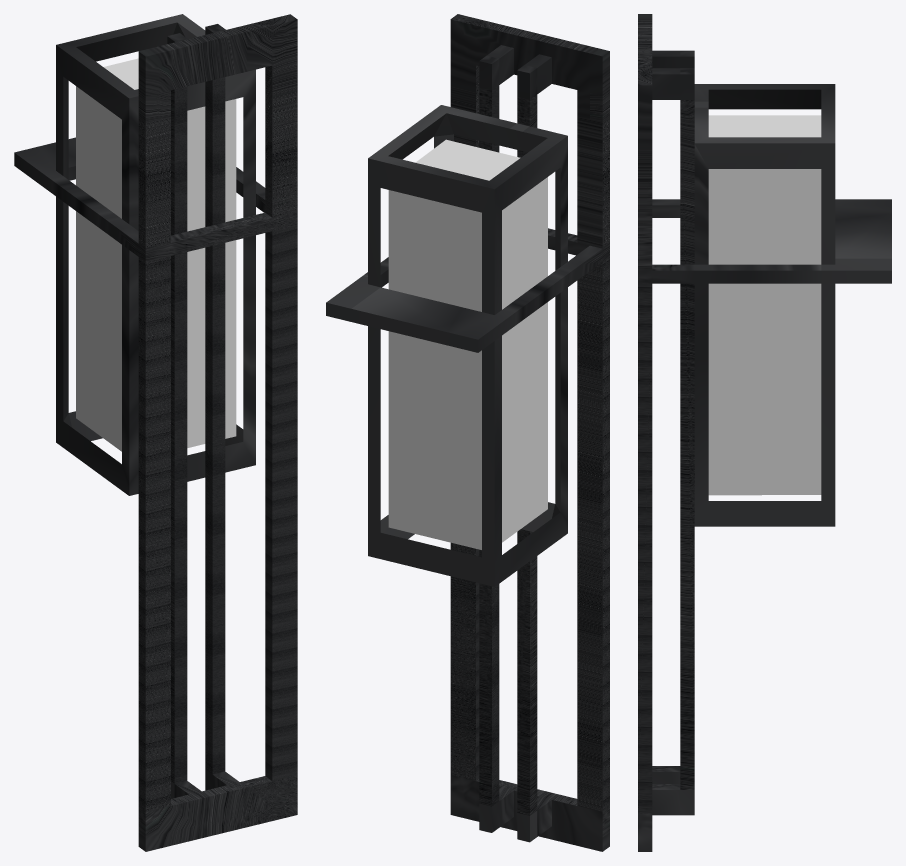
Rendered from FLWlamp2.fbx.
3 renders of one model, left to right at view 1: azimuth 30°, elevation 25°; view 2: azimuth 150°, elevation 25°; view 3: azimuth 270°, elevation 25°, orthographic. The views are drawn at different scales.
Visible parts, largest first — view 1: Lamp_Frame, Lamp_Light; view 2: Lamp_Frame, Lamp_Light; view 3: Lamp_Frame, Lamp_Light.
Part boxes in pixels (x1,y1,x2,y2): Lamp_Frame: (14,14,297,851); Lamp_Light: (76,58,236,451); Lamp_Frame: (326,14,609,851); Lamp_Light: (388,139,547,549); Lamp_Frame: (638,14,891,851); Lamp_Light: (708,115,821,495).
Size of the model in its own units: 240 by 1200 by 360.
2 materials, 1 textured.
